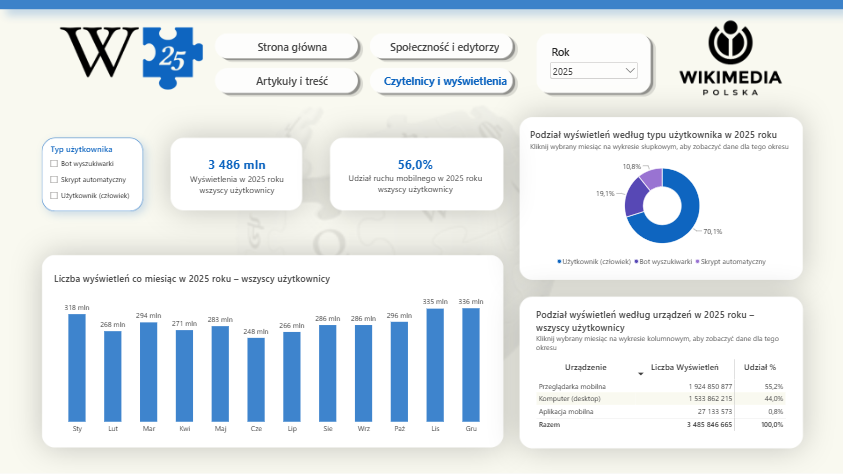

The dashboard page shown, as its layout file describes it:
{"tool":"powerbi","page":{"name":"4_Czytelnicy i wyświetlenia","canvas":[1920,1080],"ordinal":3},"visuals":[{"type":"actionButton","box":[524.5,77.7,278.6,58.3],"z":0},{"type":"actionButton","box":[550,155.5,227.3,57],"z":1000},{"type":"actionButton","box":[846.9,155.5,329.7,57],"z":2000},{"type":"actionButton","box":[845.3,74.3,329.8,65.5],"z":3000},{"type":"clusteredColumnChart","fields":{"Category":["DimDate.Miesiąc Skrót"],"Y":["_MEASURES.Wyswietlenia_mln"]},"box":[105.8,604.3,1033.3,400],"z":4000},{"type":"donutChart","fields":{"Category":["1_ogladalnosc_monthly_clean.Typ Użytkownika"],"Y":["Sum(1_ogladalnosc_monthly_clean.Liczba Wyświetleń)"]},"box":[1188,276.5,632.9,347.8],"z":5000},{"type":"slicer","title":"Rok","fields":{"Values":["DimDate.Rok"]},"box":[1246.3,101.5,208.9,86.7],"z":6000},{"type":"cardVisual","fields":{"Data":["_MEASURES.Wyswietlenia_mln"]},"box":[413,326.1,250.6,149],"z":7000},{"type":"tableEx","fields":{"Values":["1_ogladalnosc_monthly_clean.Urządzenie","Sum(1_ogladalnosc_monthly_clean.Liczba Wyświetleń)","Divide(Sum(1_ogladalnosc_monthly_clean.Liczba Wyświetleń), ScopedEval(Sum(1_ogladalnosc_monthly_clean.Liczba Wyświetleń)"]},"box":[1203.1,686.9,600.5,326.2],"z":8000},{"type":"cardVisual","fields":{"Data":["_MEASURES.Udział ruchu mobilnego"]},"box":[763.8,326.1,361.7,146.7],"z":9000},{"type":"slicer","fields":{"Values":["1_ogladalnosc_monthly_clean.Typ Użytkownika"]},"box":[107.2,326.1,209.5,140.4],"z":10000}]}

Visuals, with their boxes in screenshot pixels (x1, y1, x2, y2), scaled from the page's 1920x1080 canvas onto the 843x474 screenshot:
actionButton: 230,34,353,60
actionButton: 241,68,341,93
actionButton: 372,68,517,93
actionButton: 371,33,516,61
clusteredColumnChart - DimDate.Miesiąc Skrót x _MEASURES.Wyswietlenia_mln: 46,265,500,441
donutChart - 1_ogladalnosc_monthly_clean.Typ Użytkownika x Sum(1_ogladalnosc_monthly_clean.Liczba Wyświetleń): 522,121,799,274
"Rok" slicer: 547,45,639,83
cardVisual - _MEASURES.Wyswietlenia_mln: 181,143,291,209
tableEx - 1_ogladalnosc_monthly_clean.Urządzenie x Sum(1_ogladalnosc_monthly_clean.Liczba Wyświetleń): 528,301,792,445
cardVisual - _MEASURES.Udział ruchu mobilnego: 335,143,494,208
slicer - 1_ogladalnosc_monthly_clean.Typ Użytkownika: 47,143,139,205
